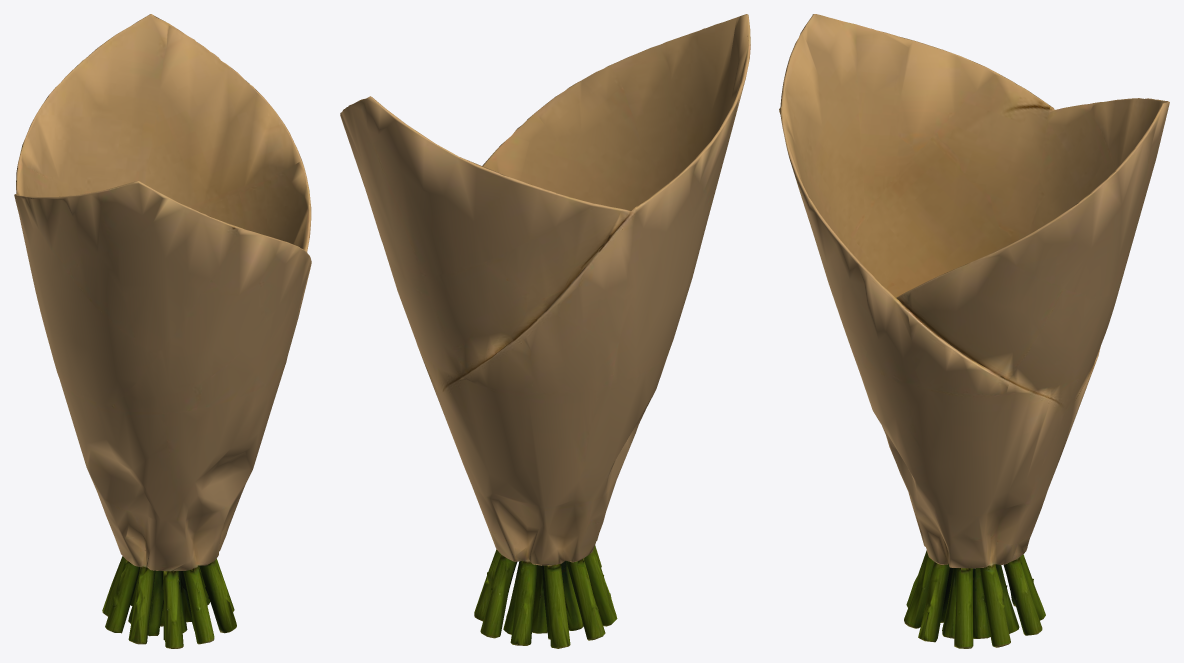
The model's file is wrapper1.glb.
3 renders of one model, left to right at view 1: azimuth 30°, elevation 25°; view 2: azimuth 150°, elevation 25°; view 3: azimuth 270°, elevation 25°, orthographic. The views are drawn at different scales.
Visible parts, largest first — view 1: tripo_node_09c0c1d8-f6ef-4506-a0b5-7a4ca4f8a67f; view 2: tripo_node_09c0c1d8-f6ef-4506-a0b5-7a4ca4f8a67f; view 3: tripo_node_09c0c1d8-f6ef-4506-a0b5-7a4ca4f8a67f.
Part boxes in pixels (<box>): tripo_node_09c0c1d8-f6ef-4506-a0b5-7a4ca4f8a67f: <box>14,14,311,648</box>; tripo_node_09c0c1d8-f6ef-4506-a0b5-7a4ca4f8a67f: <box>340,14,750,648</box>; tripo_node_09c0c1d8-f6ef-4506-a0b5-7a4ca4f8a67f: <box>779,14,1169,648</box>.
Size of the model in its own units: 0.5699 by 1 by 0.6304.
Materials: 1 (1 with a texture image).
